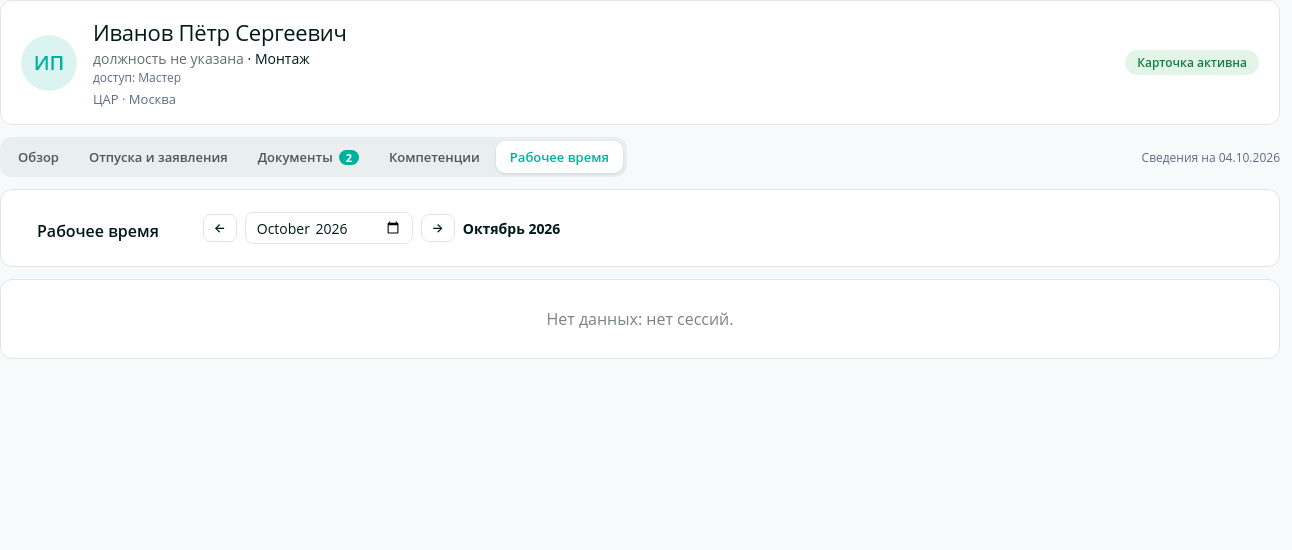
Test: opens the new tabs by ?tab= and shows the unread-documents counter on «Документы»
Expected: the text "Нет данных: нет сессий." is shown, left=0, top=279, right=1280, bottom=359
Expected: the text named "ждут ознакомления: 2" is shown, left=339, top=150, right=359, bottom=165
Step 1. Click the tab "Компетенции" → coordinates (434, 157), box left=375, top=141, right=494, bottom=173
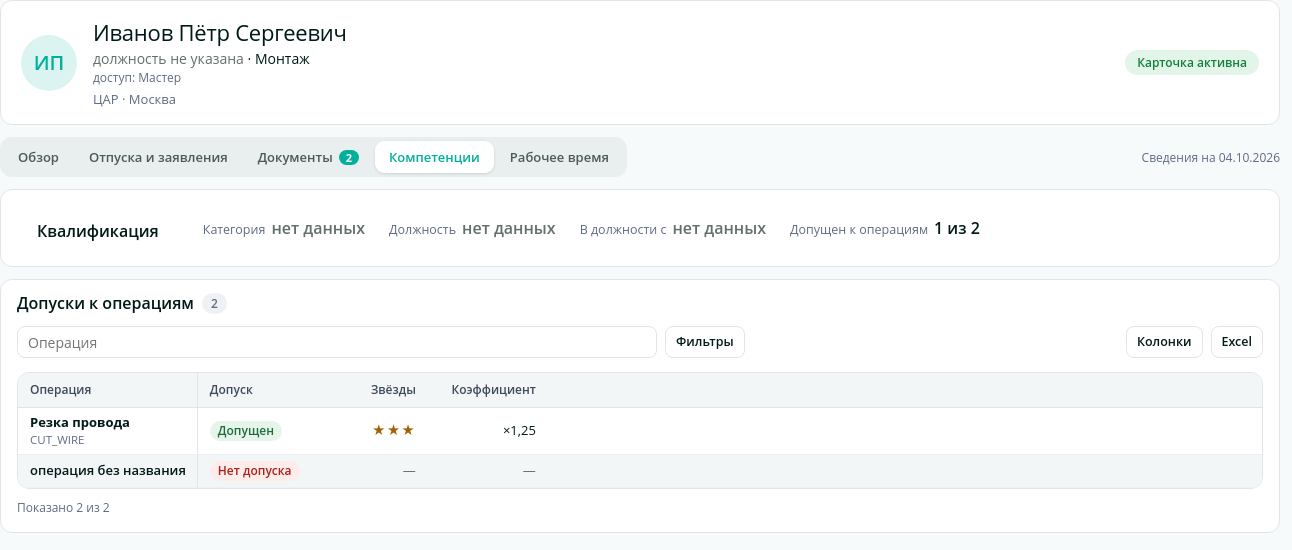
Result: the element "Допуски к операциям" shows "Резка провода" at left=30, top=413, right=130, bottom=431
